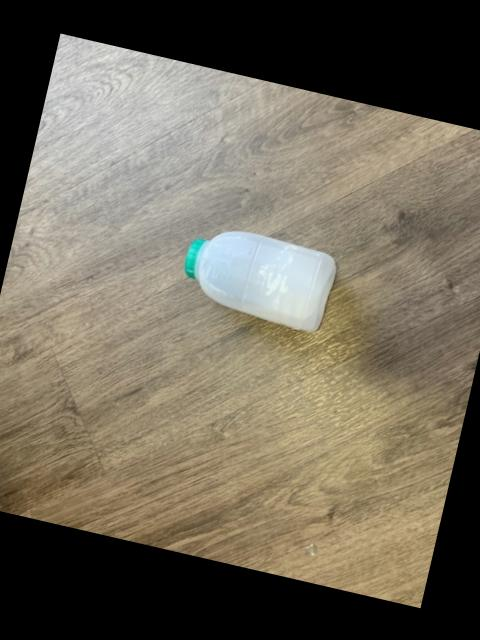plastic: (183, 231, 333, 331)
